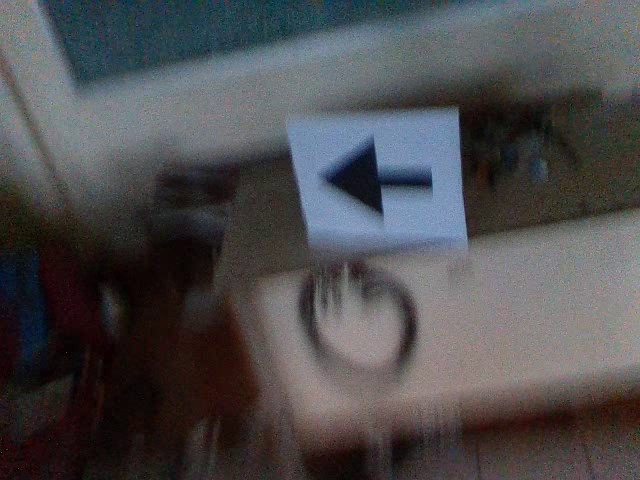Left: (311, 131, 435, 223)
